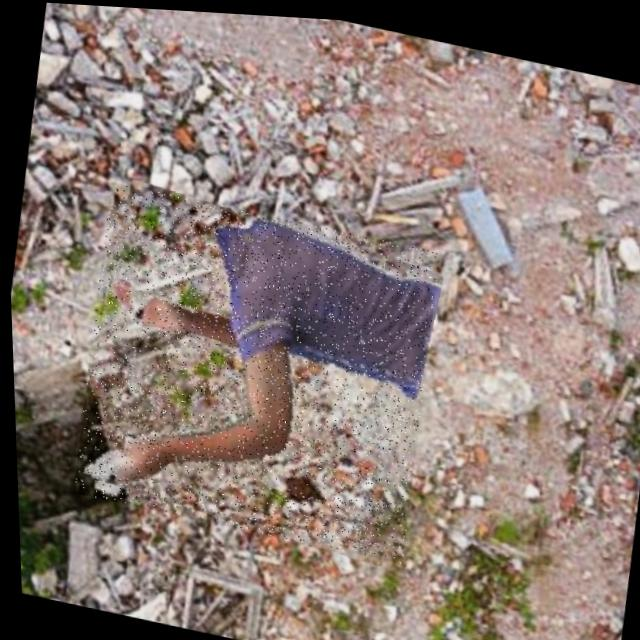Person in Rubble: (60, 177, 448, 561)
